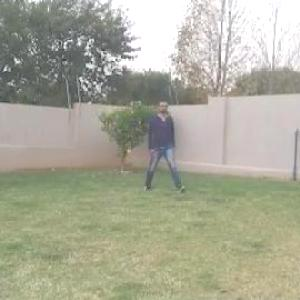follow: (149, 94, 173, 194)
